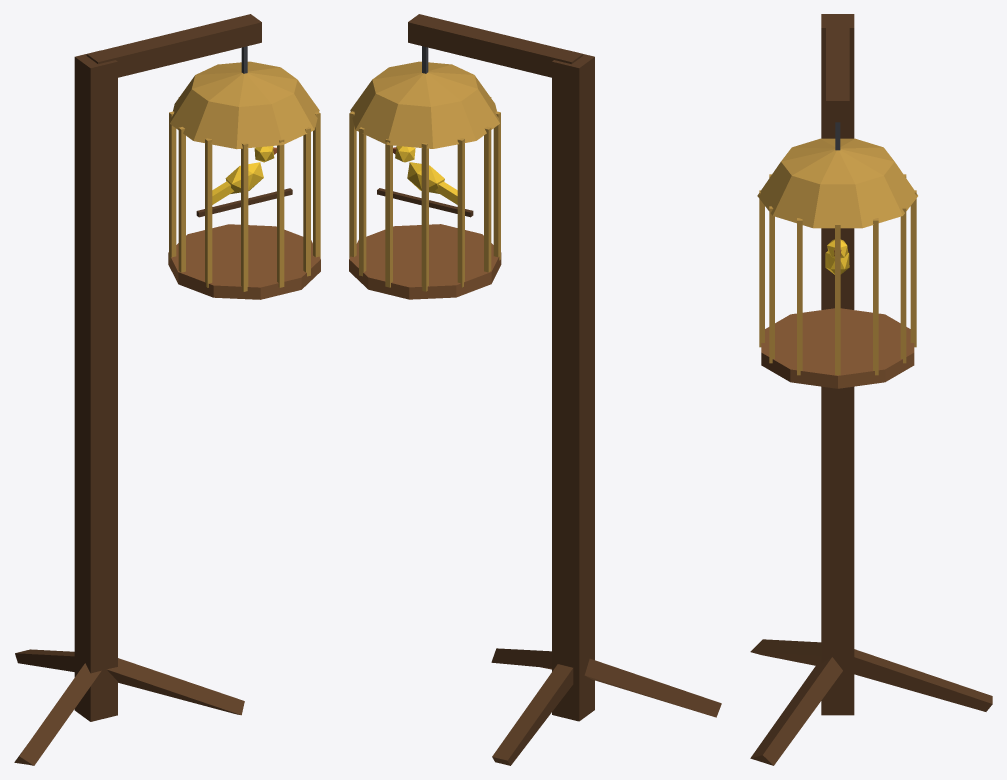
Rendered from mine_canary_cage.glb.
3 views of the same model, side by side, from view 1: azimuth 30°, elevation 25°; view 2: azimuth 150°, elevation 25°; view 3: azimuth 270°, elevation 25° (orthographic). The views are drawn at different scales.
Parts seen in each view (by area): view 1: mine_canary_cage; view 2: mine_canary_cage; view 3: mine_canary_cage.
Boxes of the visible parts, <box> form: mine_canary_cage: <box>14,14,320,765</box>; mine_canary_cage: <box>349,14,721,765</box>; mine_canary_cage: <box>750,14,992,765</box>.
Size of what is drawn, in the model's own units: 0.8391 by 1.61 by 0.512.
